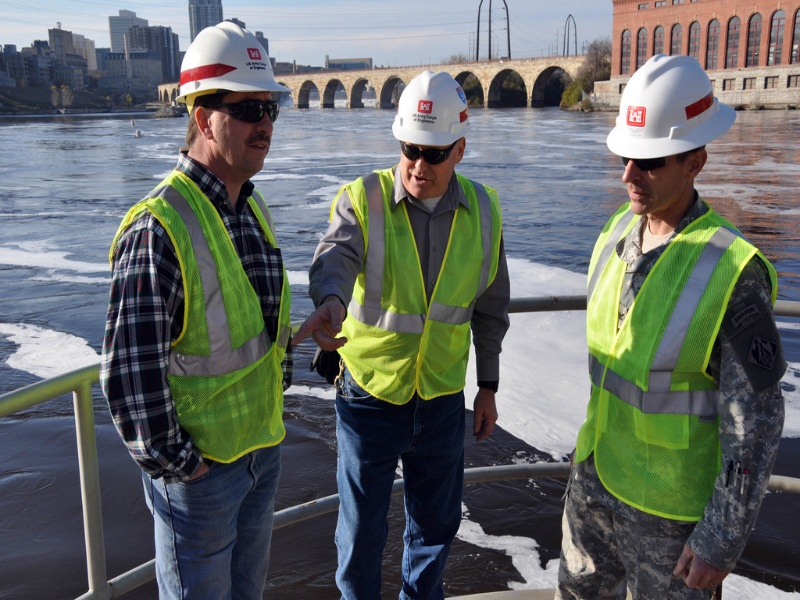Baret: (605, 51, 742, 163), (178, 22, 292, 96), (392, 72, 475, 146)
